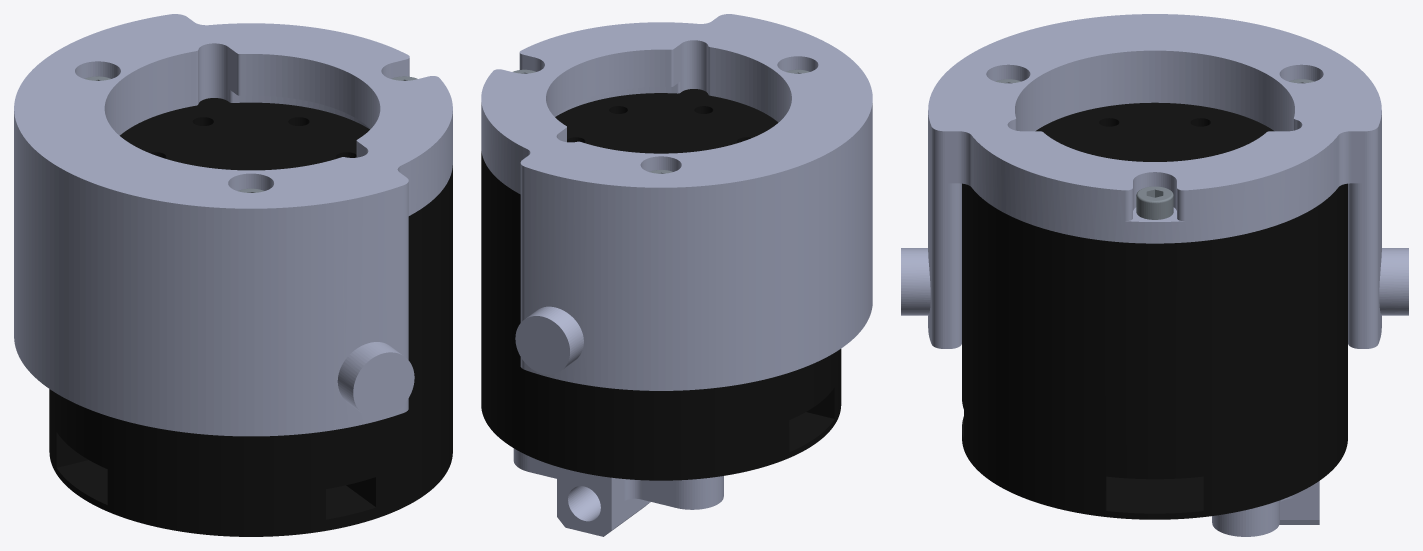
Rendered from left_arm_l6.glb.
3 renders of one model, left to right at view 1: azimuth 30°, elevation 25°; view 2: azimuth 150°, elevation 25°; view 3: azimuth 270°, elevation 25°, orthographic. The views are drawn at different scales.
Visible parts, largest first — view 1: world; view 2: world; view 3: world.
Boxes of the visible parts, bbox=[...] form: world: bbox=[14, 14, 452, 536]; world: bbox=[481, 14, 872, 536]; world: bbox=[901, 14, 1408, 536].
Bounding box in the file's own units: 62 × 66 × 75.
